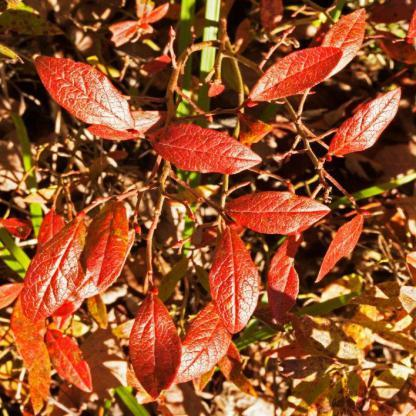Blueberry leaf: (16, 211, 99, 330), (35, 52, 135, 134), (126, 290, 188, 405), (207, 223, 263, 340), (73, 200, 137, 302), (148, 121, 264, 177), (242, 47, 348, 107), (323, 84, 404, 160), (223, 184, 332, 236), (42, 326, 100, 395)
